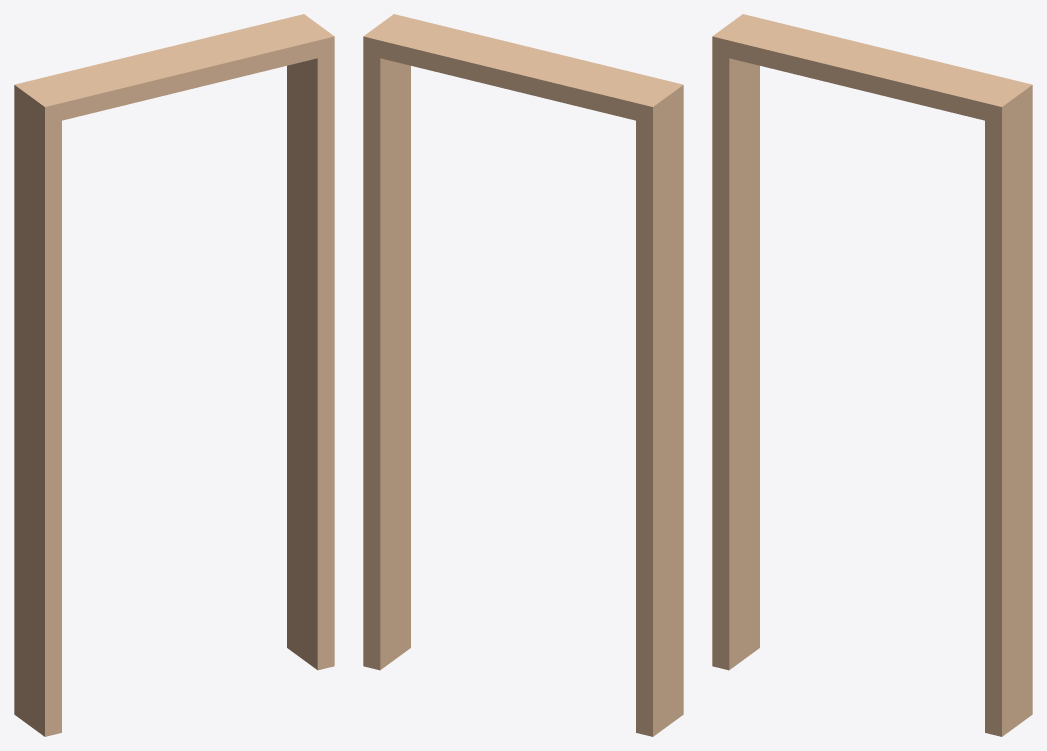
File: doorwayOpen.glb
3 views of the same model, side by side, from view 1: azimuth 30°, elevation 25°; view 2: azimuth 150°, elevation 25°; view 3: azimuth 330°, elevation 25° (orthographic).
Visible parts, largest first — view 1: doorwayOpen; view 2: doorwayOpen; view 3: doorwayOpen.
Boxes of the visible parts, <box> form: doorwayOpen: <box>14,14,334,736</box>; doorwayOpen: <box>363,14,683,736</box>; doorwayOpen: <box>712,14,1032,736</box>.
Size of the model in its own units: 1.46 by 3.03 by 0.2673.
